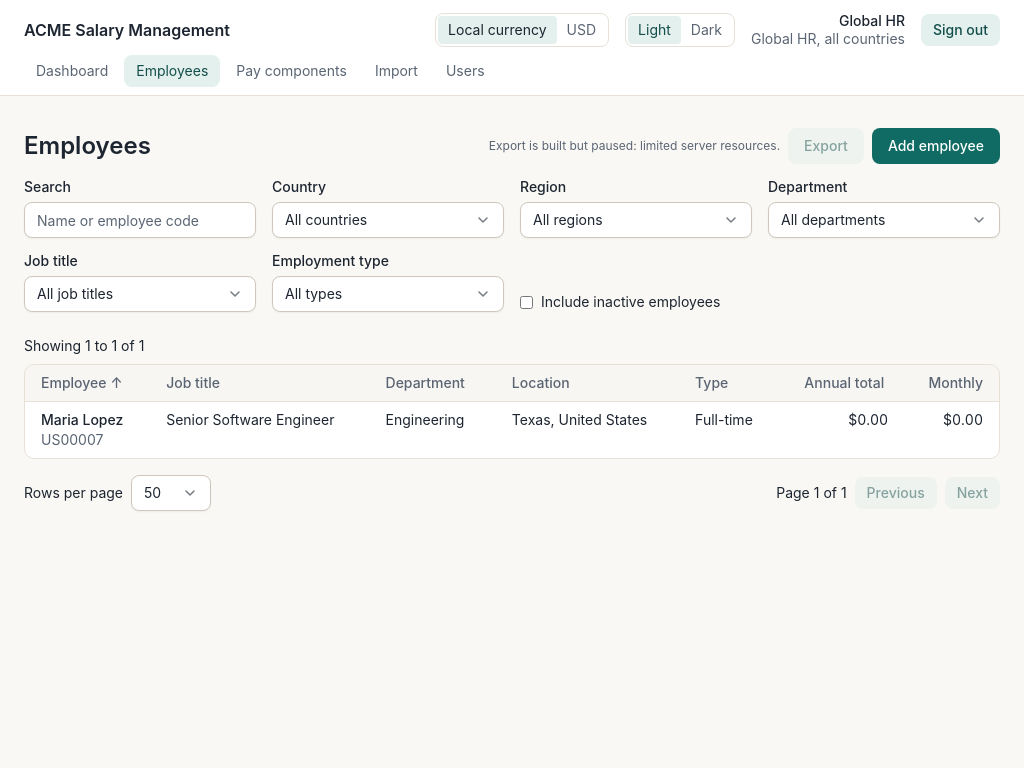
Test case: EmployeePage › is opened from the directory
Click the link "Maria Lopez". click: (60, 420)
box: [41, 411, 123, 428]
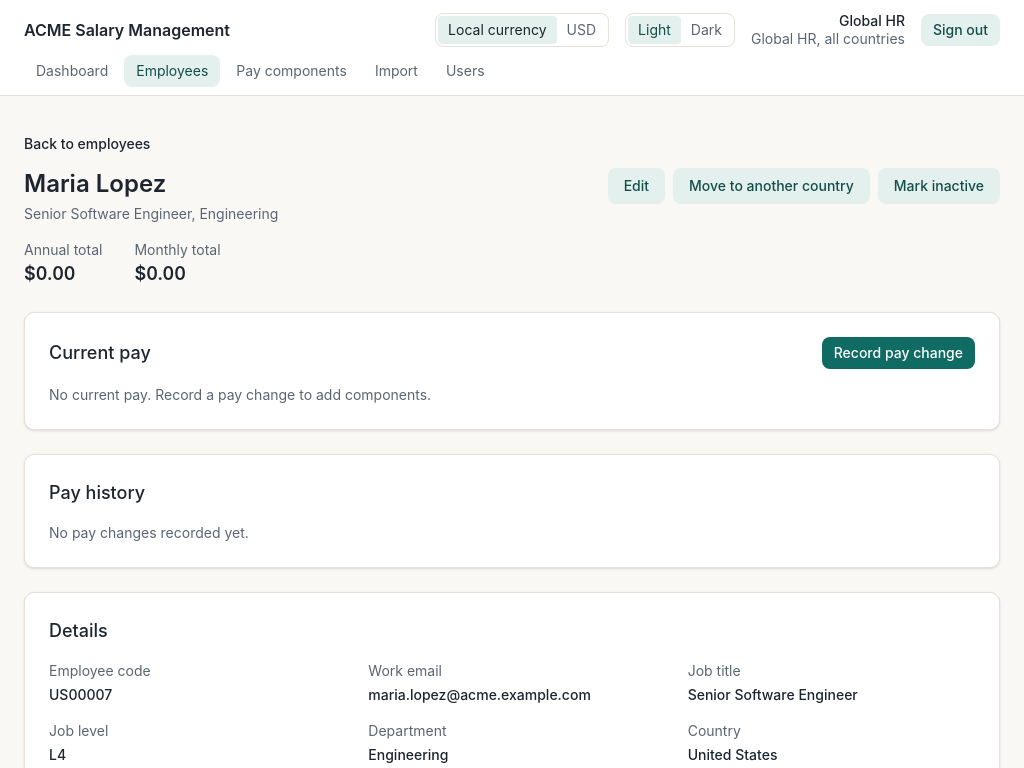
Expected: the heading "Maria Lopez" is shown, [24, 168, 166, 200]
